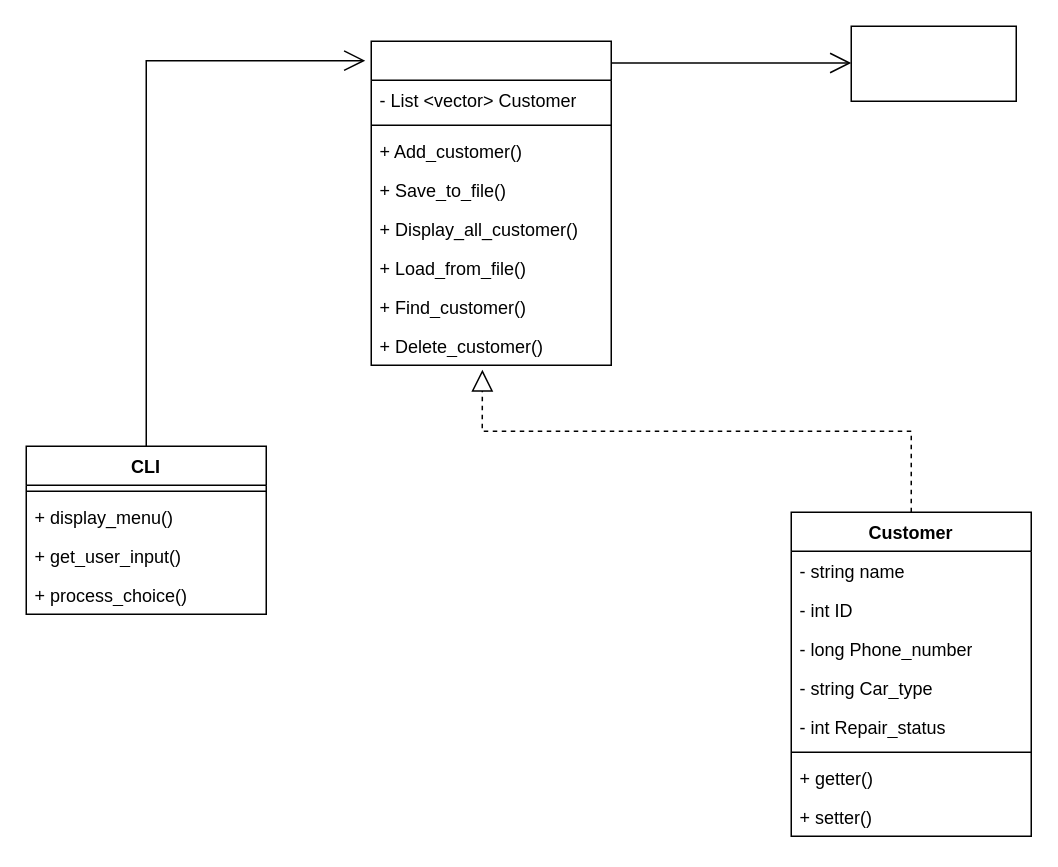
Image size: 1058x867. Some labels were removed from this diagram. The shapes that lost their labels are listed below. From the top down, each one's box as (x1, y1, x2, y2) in pixels, then its label:
(850, 25, 1016, 101): Json file
(370, 40, 611, 365): Manager
